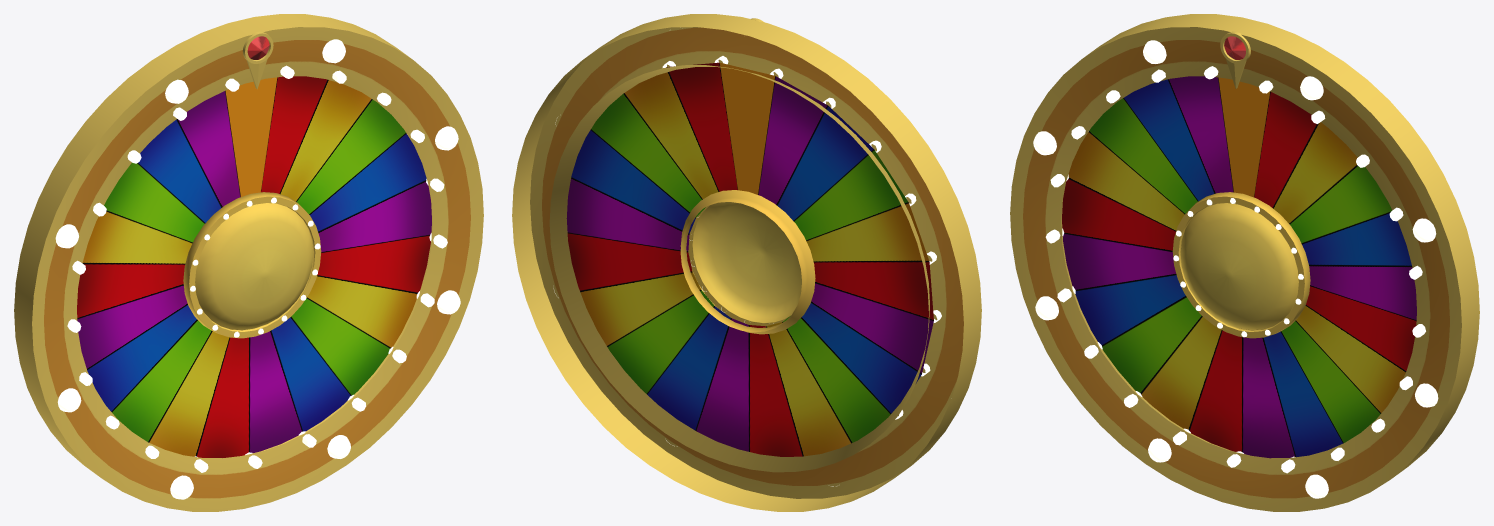
The model's file is FortuneWheel.glb.
The picture shows the model from 3 angles, left to right: view 1: azimuth 30°, elevation 25°; view 2: azimuth 150°, elevation 25°; view 3: azimuth 330°, elevation 25°; orthographic projection.
Visible parts, largest first — view 1: Plates.009, Wheel_Wheel_MAT_0, Cylinder, OuterLight, WheelStopper, pointer, InnerLight; view 2: Plates.009, Wheel_Wheel_MAT_0, Cylinder, WheelStopper; view 3: Plates.009, Wheel_Wheel_MAT_0, Cylinder, OuterLight, WheelStopper, pointer, InnerLight.
Part boxes in pixels (bbox=[...]): Plates.009: bbox=[77, 76, 431, 457]; Wheel_Wheel_MAT_0: bbox=[14, 14, 483, 511]; Cylinder: bbox=[183, 192, 321, 338]; OuterLight: bbox=[55, 39, 460, 499]; WheelStopper: bbox=[67, 65, 447, 472]; pointer: bbox=[242, 31, 273, 89]; InnerLight: bbox=[190, 197, 320, 337]; Plates.009: bbox=[566, 62, 933, 456]; Wheel_Wheel_MAT_0: bbox=[512, 14, 981, 511]; Cylinder: bbox=[680, 190, 815, 334]; WheelStopper: bbox=[662, 56, 941, 419]; Plates.009: bbox=[1062, 76, 1416, 458]; Wheel_Wheel_MAT_0: bbox=[1010, 14, 1479, 511]; Cylinder: bbox=[1172, 192, 1310, 338]; OuterLight: bbox=[1033, 40, 1438, 498]; WheelStopper: bbox=[1045, 66, 1425, 473]; pointer: bbox=[1220, 31, 1250, 88]; InnerLight: bbox=[1173, 198, 1303, 337].
Bounding box in the file's own units: 3.71 × 3.72 × 0.3575.
1 material, 1 textured.
